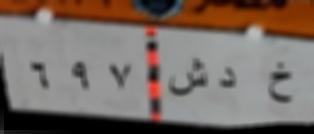6: (22, 54, 55, 95)
7: (105, 59, 138, 92)
9: (70, 59, 93, 92)
daal: (217, 65, 244, 93)
khaa: (265, 55, 297, 111)
sheen: (169, 55, 210, 102)
